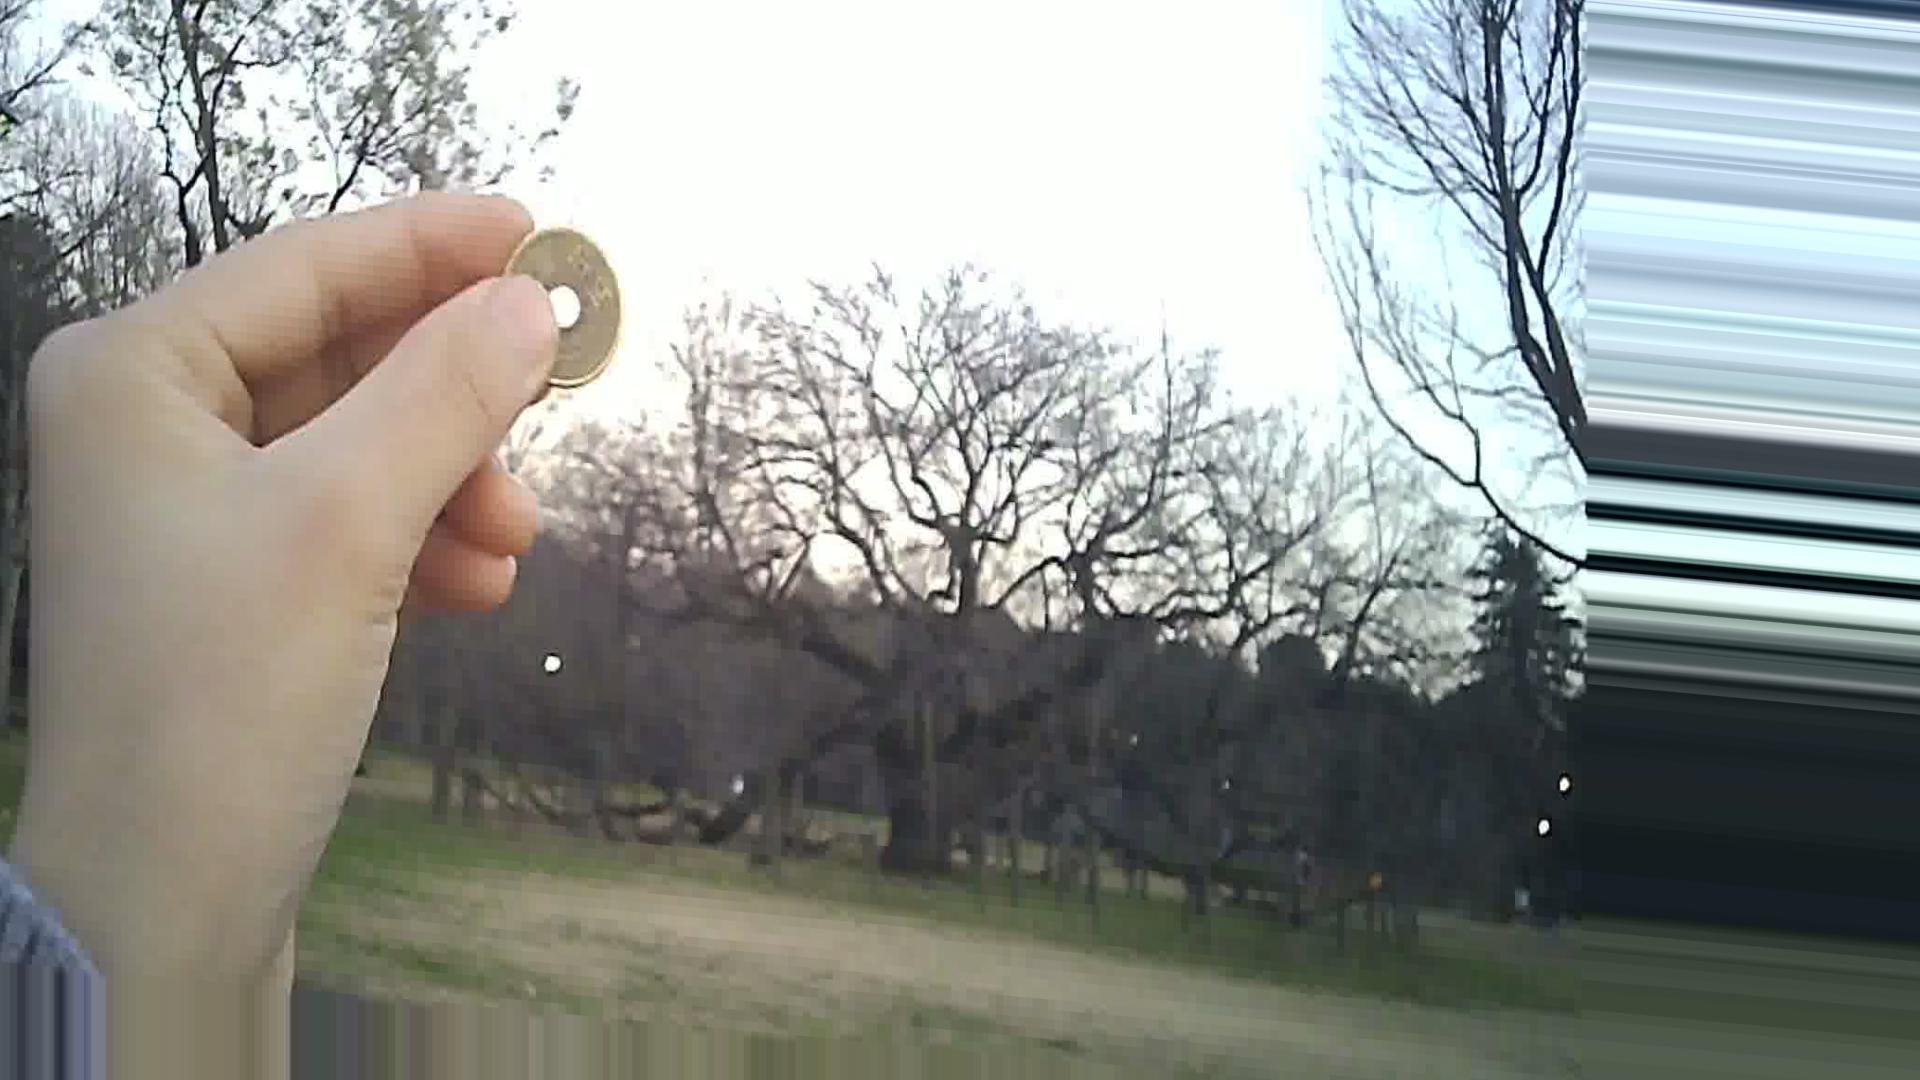5 Yen: (496, 208, 624, 398)
